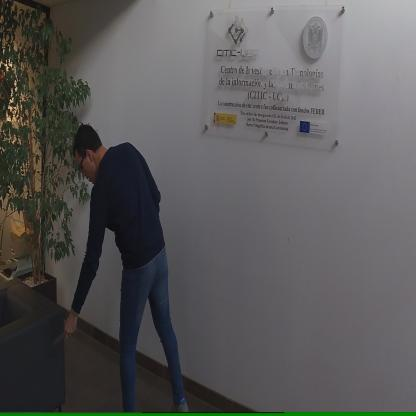knife: (49, 320, 75, 350)
